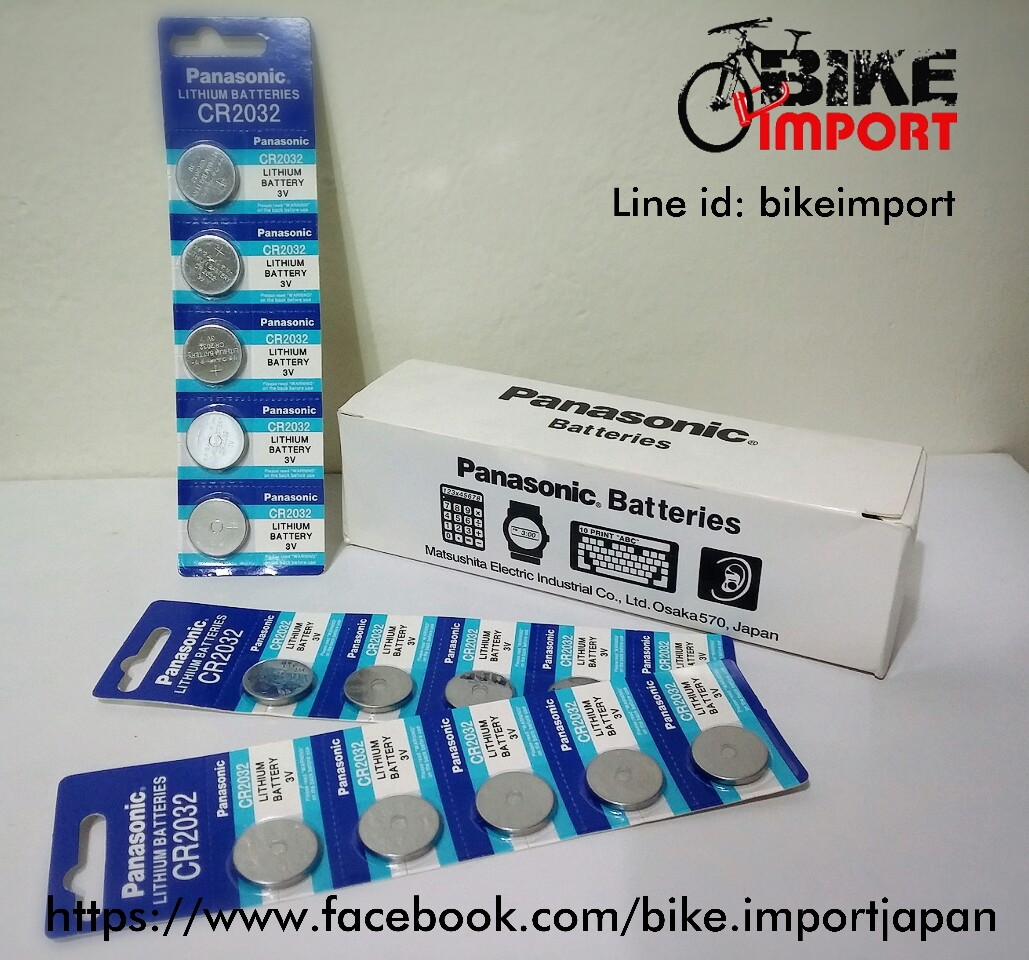Battery: (468, 764, 564, 845), (228, 813, 325, 893), (351, 788, 444, 869), (581, 742, 667, 819), (690, 722, 780, 793), (183, 489, 252, 563), (173, 138, 242, 211), (177, 230, 246, 303), (177, 318, 246, 391), (182, 403, 251, 476), (235, 655, 320, 714), (339, 663, 420, 714), (442, 663, 523, 712)
